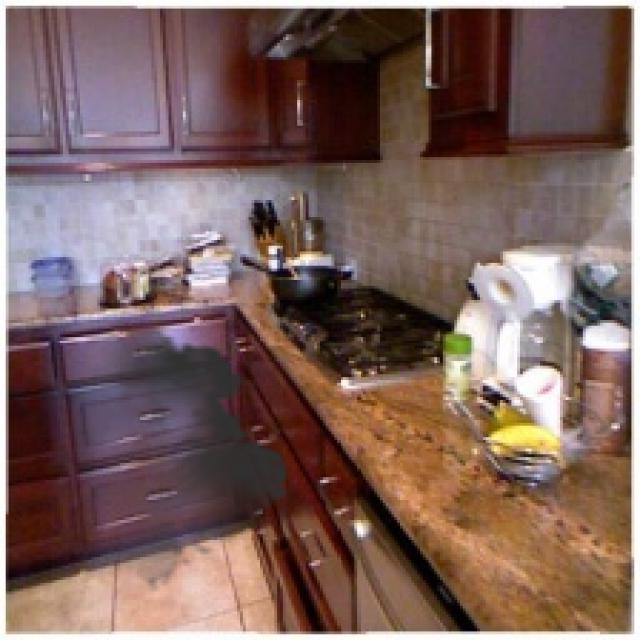smoke: (23, 320, 300, 594)
